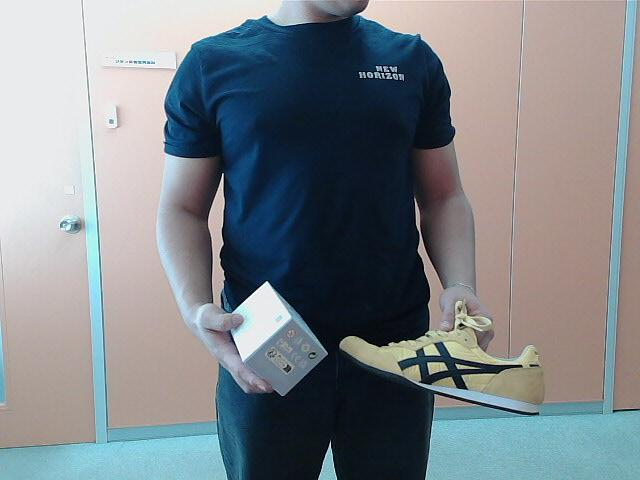Blind_box: (226, 276, 326, 401)
Shoes: (339, 313, 548, 418)
